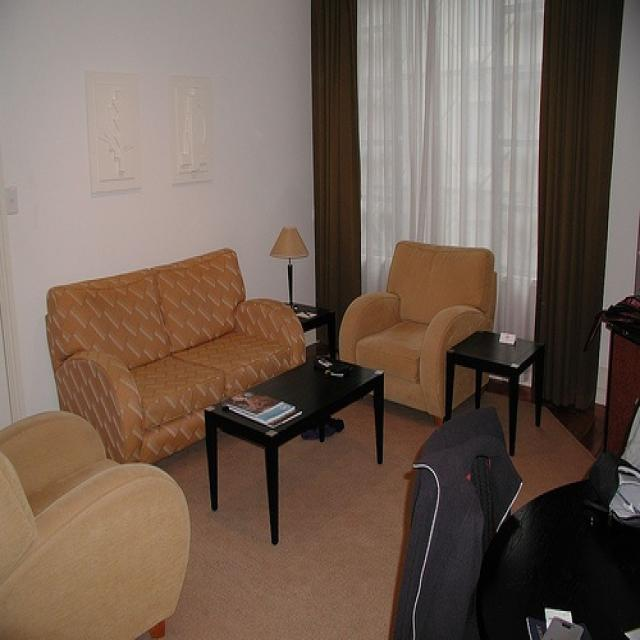chair: (0, 391, 195, 638), (334, 237, 498, 418)
sofa: (35, 248, 307, 474)
